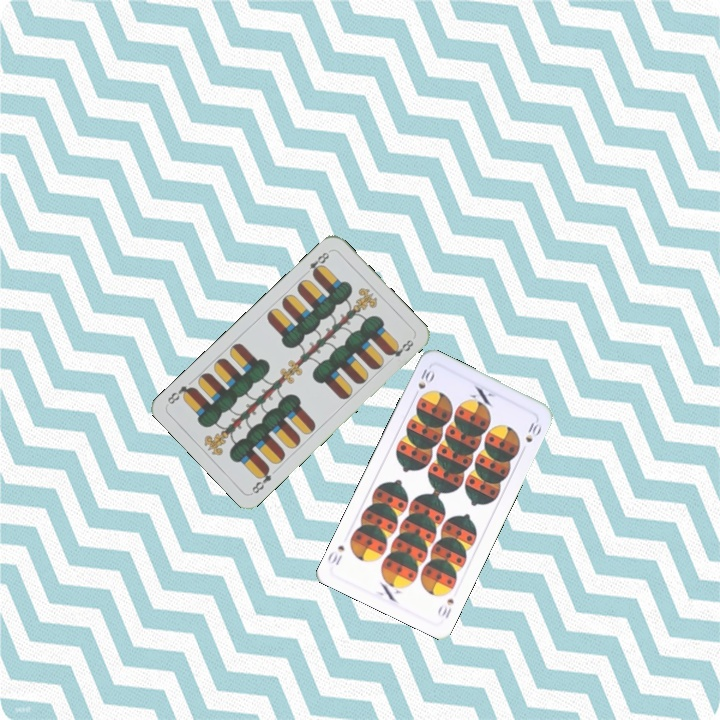E8: (300, 247, 333, 279), (248, 463, 274, 496)
S10: (414, 364, 437, 392), (434, 594, 457, 621)
